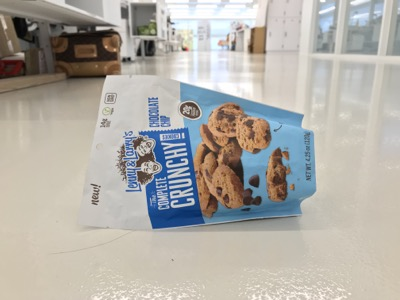cookie: (78, 72, 319, 231)
